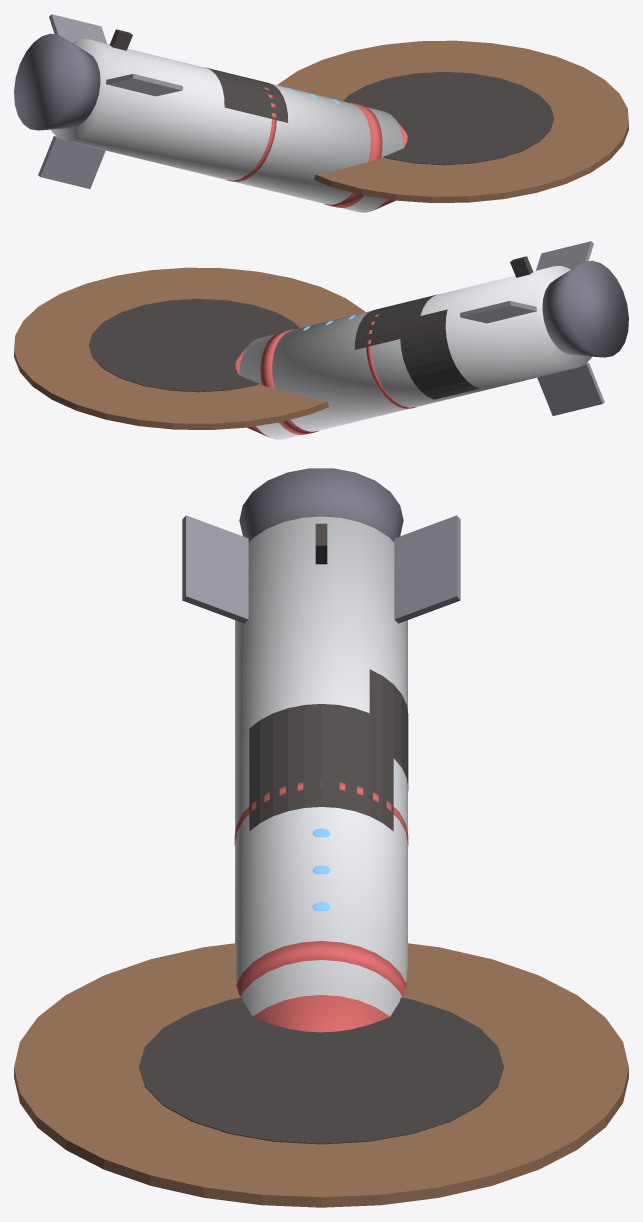
Rendered from crashed_ship.glb.
3 renders of one model, top to bottom at view 1: azimuth 30°, elevation 25°; view 2: azimuth 150°, elevation 25°; view 3: azimuth 270°, elevation 25°, orthographic. The views are drawn at different scales.
Visible parts, largest first — view 1: ShipBody, Crater, BurnMark, Engine, Fin_1, ScorchPanel, Fin_2, Fin_0, Stripe, Stripe2, FinStub; view 2: Crater, ShipBody, BurnMark, Engine, HatchOpening, Fin_1, ScorchPanel, Fin_0, Fin_2, Stripe, Stripe2, FinStub; view 3: Crater, ShipBody, BurnMark, ScorchPanel, Engine, Fin_0, Fin_2, ShipNose, Stripe, HatchOpening.
Part boxes in pixels (bbox=[...]): ShipBody: bbox=[51, 39, 403, 212]; Crater: bbox=[277, 40, 628, 202]; BurnMark: bbox=[343, 71, 553, 165]; Engine: bbox=[14, 33, 100, 130]; Fin_1: bbox=[38, 136, 105, 188]; ScorchPanel: bbox=[206, 67, 288, 122]; Fin_2: bbox=[49, 14, 106, 43]; Fin_0: bbox=[106, 74, 182, 96]; Stripe: bbox=[324, 102, 382, 207]; Stripe2: bbox=[226, 87, 276, 181]; FinStub: bbox=[109, 29, 132, 50]; Crater: bbox=[14, 267, 365, 429]; ShipBody: bbox=[239, 266, 591, 439]; BurnMark: bbox=[89, 298, 299, 392]; Engine: bbox=[542, 260, 628, 357]; HatchOpening: bbox=[400, 309, 478, 399]; Fin_1: bbox=[537, 363, 604, 415]; ScorchPanel: bbox=[354, 294, 436, 349]; Fin_0: bbox=[536, 241, 593, 270]; Fin_2: bbox=[460, 301, 536, 323]; Stripe: bbox=[260, 329, 318, 434]; Stripe2: bbox=[366, 314, 416, 408]; FinStub: bbox=[510, 256, 533, 277]; Crater: bbox=[14, 943, 628, 1207]; ShipBody: bbox=[235, 516, 407, 1016]; BurnMark: bbox=[139, 997, 503, 1144]; ScorchPanel: bbox=[249, 704, 393, 831]; Engine: bbox=[239, 468, 403, 542]; Fin_0: bbox=[182, 515, 248, 623]; Fin_2: bbox=[394, 515, 460, 623]; ShipNose: bbox=[253, 995, 389, 1032]; Stripe: bbox=[236, 941, 406, 996]; HatchOpening: bbox=[369, 669, 408, 790].
Bounding box in the file's own units: 11.53 × 4.63 × 6.4.
